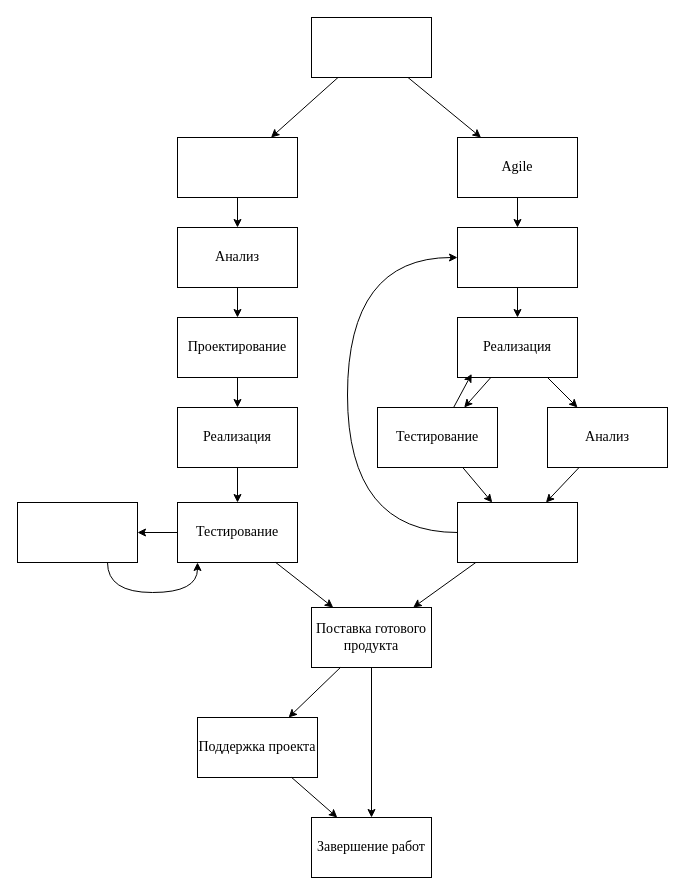
This 685x895 diagram has some shape labels left out. Here are the shapes that lost their labels. From the top down, the centre of each, then its label:
(371,47): Требования
(237,167): Водопадная модель
(517,257): Спланировать спринт
(77,532): Доработка продукта
(517,532): Развёртывание рабочего билда
